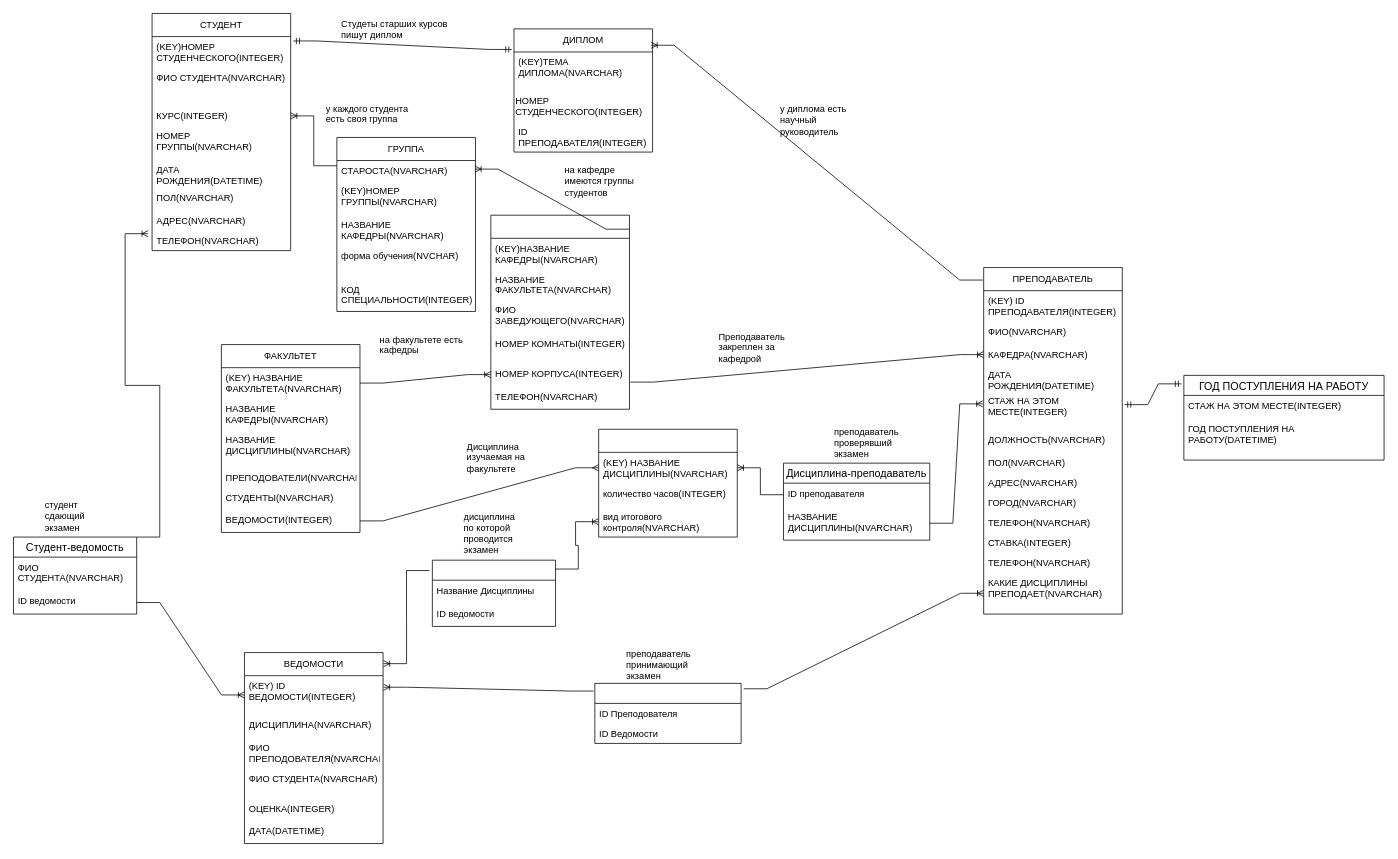
Some shapes in this 1398 by 859 pixel diagram are drawn without their labels. The box of each missing label's shape, as (x1, y1, x2, y2) in pixels:
Ведомость-Преподаватель: (594, 683, 741, 743)
ДИСЦИПЛИНА: (598, 429, 737, 537)
Дисциплина-ведомость: (432, 559, 556, 626)
КАФЕДРА: (490, 214, 629, 409)
